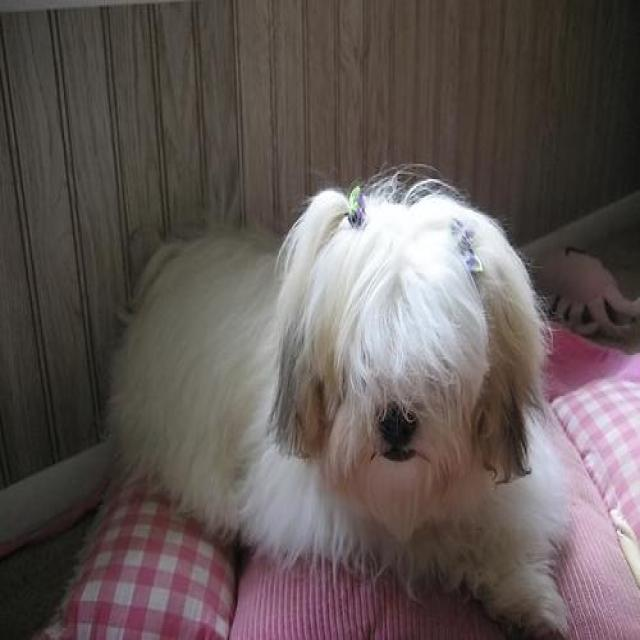shih_tzu: (98, 164, 578, 638)
